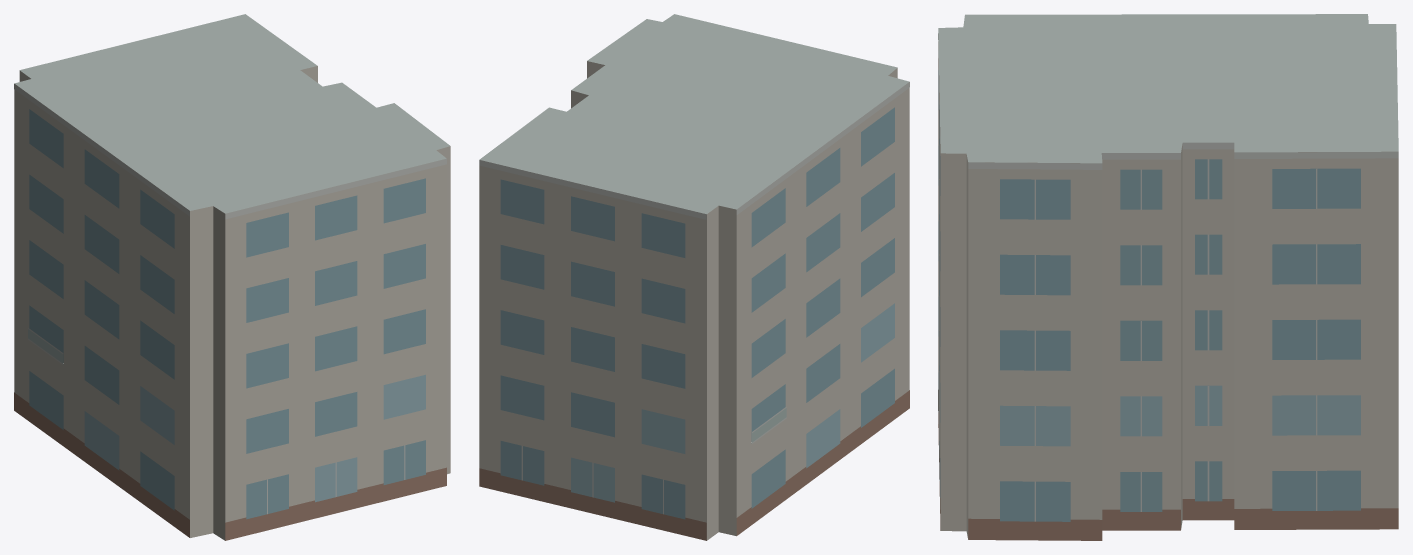
File: survey-upis-32837375.glb
3 renders of one model, left to right at view 1: azimuth 30°, elevation 25°; view 2: azimuth 150°, elevation 25°; view 3: azimuth 270°, elevation 25°, orthographic. The views are drawn at different scales.
Parts seen in each view (by area): view 1: survey-upis-32837375.tmp; view 2: survey-upis-32837375.tmp; view 3: survey-upis-32837375.tmp.
Boxes of the visible parts, left/top/right/bottom form: survey-upis-32837375.tmp: left=14, top=14, right=450, bottom=540; survey-upis-32837375.tmp: left=479, top=14, right=909, bottom=540; survey-upis-32837375.tmp: left=938, top=14, right=1398, bottom=540.
Size of the model in its own units: 11.74 by 13.8 by 15.27.
